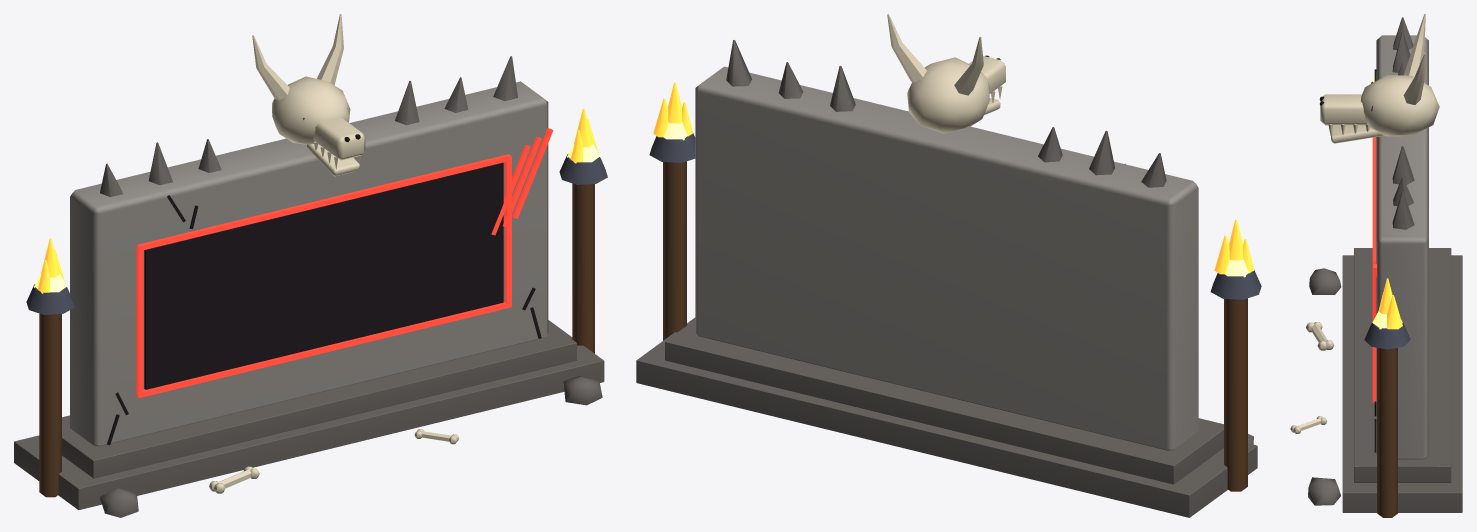
The model's file is boss-board.glb.
3 renders of one model, left to right at view 1: azimuth 30°, elevation 25°; view 2: azimuth 150°, elevation 25°; view 3: azimuth 270°, elevation 25°, orthographic. The views are drawn at different scales.
Visible parts, largest first — view 1: BossBoard_Stone, BossBoard_Screen, BossBoard_StoneDark, BossBoard_Glow, BossBoard_Skull, BossBoard_TorchPosts, BossBoard_TorchBowls, BossBoard_Flames; view 2: BossBoard_Stone, BossBoard_StoneDark, BossBoard_TorchPosts, BossBoard_Skull, BossBoard_TorchBowls, BossBoard_Flames; view 3: BossBoard_StoneDark, BossBoard_Stone, BossBoard_Skull, BossBoard_TorchPosts, BossBoard_Glow, BossBoard_TorchBowls, BossBoard_Flames.
Part boxes in pixels (<box>): BossBoard_Stone: <box>70,81,548,446</box>; BossBoard_Screen: <box>107,162,541,445</box>; BossBoard_StoneDark: <box>14,56,604,517</box>; BossBoard_Glow: <box>136,128,553,397</box>; BossBoard_Skull: <box>209,14,458,493</box>; BossBoard_TorchPosts: <box>39,183,594,497</box>; BossBoard_TorchBowls: <box>26,154,607,314</box>; BossBoard_Flames: <box>37,108,597,292</box>; BossBoard_Stone: <box>695,66,1198,450</box>; BossBoard_StoneDark: <box>636,40,1257,517</box>; BossBoard_TorchPosts: <box>663,161,1247,491</box>; BossBoard_Skull: <box>887,14,1005,133</box>; BossBoard_TorchBowls: <box>649,133,1261,299</box>; BossBoard_Flames: <box>653,82,1253,274</box>; BossBoard_StoneDark: <box>1308,17,1462,512</box>; BossBoard_Stone: <box>1376,35,1428,459</box>; BossBoard_Skull: <box>1290,14,1439,433</box>; BossBoard_TorchPosts: <box>1377,347,1397,517</box>; BossBoard_Glow: <box>1372,137,1376,402</box>; BossBoard_TorchBowls: <box>1364,81,1410,349</box>; BossBoard_Flames: <box>1378,278,1402,329</box>.
Size of the model in its own units: 16.44 by 10.64 by 4.59.
